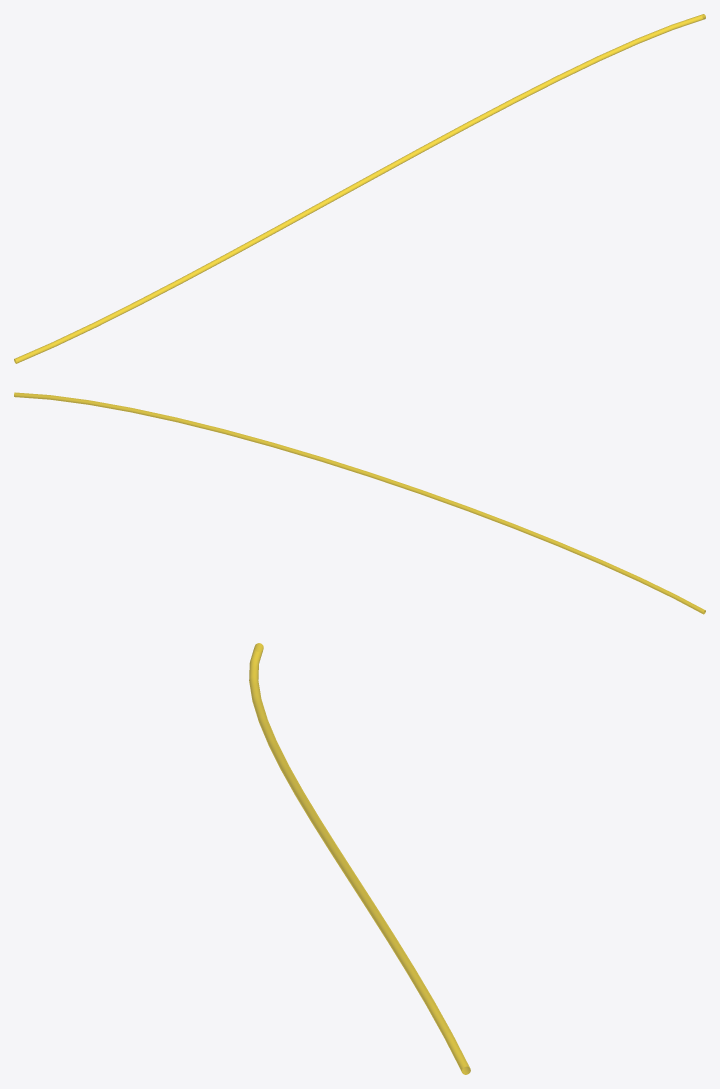
File: Event_27938768_track_71.fbx
3 views of the same model, one above another, from view 1: azimuth 30°, elevation 25°; view 2: azimuth 150°, elevation 25°; view 3: azimuth 270°, elevation 25° (orthographic). The views are drawn at different scales.
Parts seen in each view (by area): view 1: Model; view 2: Model; view 3: Model.
Boxes of the visible parts, box(x1,y1,x2,y2) form: Model: box(14, 14, 705, 363); Model: box(14, 392, 705, 614); Model: box(249, 643, 470, 1074).
Size of the model in its own units: 6.33 by 1 by 0.9513.
